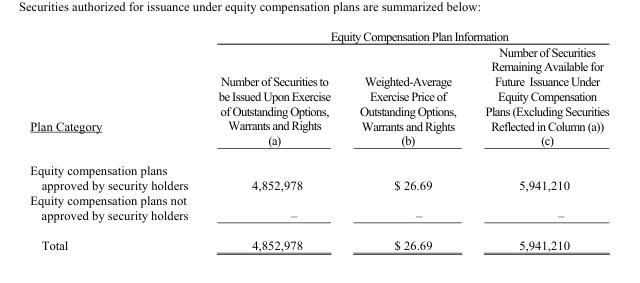table: (29, 28, 608, 251)
table column: (29, 28, 202, 251), (202, 28, 344, 251), (470, 28, 608, 251), (344, 28, 470, 251)
table column header: (29, 28, 608, 155)
table row: (29, 43, 608, 155), (29, 155, 608, 192), (29, 192, 608, 229), (29, 229, 608, 251), (29, 28, 608, 43)
table spanning cell: (29, 28, 202, 155), (202, 28, 608, 43)
